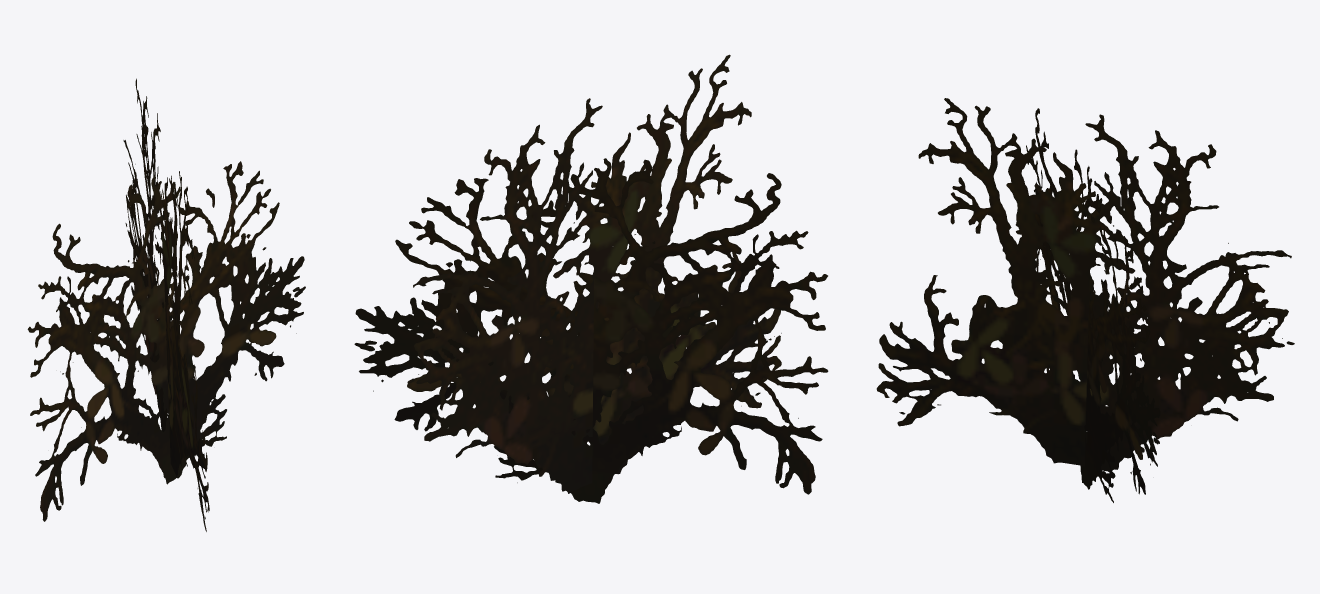
Rendered from hazz_grass_b_05.FBX.
3 renders of one model, left to right at view 1: azimuth 30°, elevation 25°; view 2: azimuth 150°, elevation 25°; view 3: azimuth 270°, elevation 25°, orthographic. The views are drawn at different scales.
Visible parts, largest first — view 1: hazz_grass_b_05; view 2: hazz_grass_b_05; view 3: hazz_grass_b_05.
Boxes of the visible parts, left/top/right/bottom form: hazz_grass_b_05: left=27, top=78, right=305, bottom=531; hazz_grass_b_05: left=354, top=54, right=828, bottom=503; hazz_grass_b_05: left=876, top=98, right=1294, bottom=502.
Size of the model in its own units: 237 by 233 by 237.
